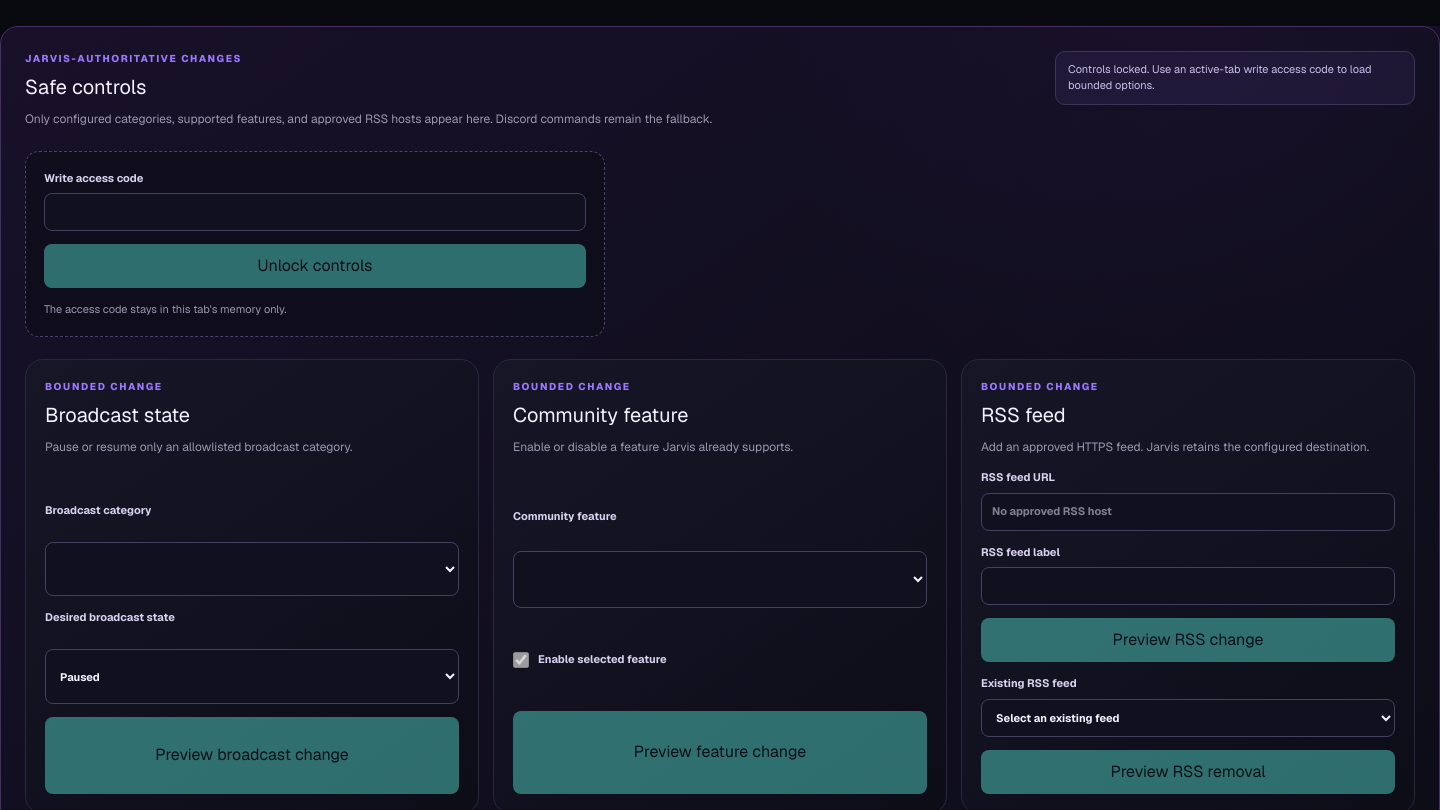
Scenario: Command Deck safe controls › renders an honest resilient outcome for API status 401
In the password field labelled "Write access code": (315, 212) [44, 193, 586, 231], type "write-only-token"
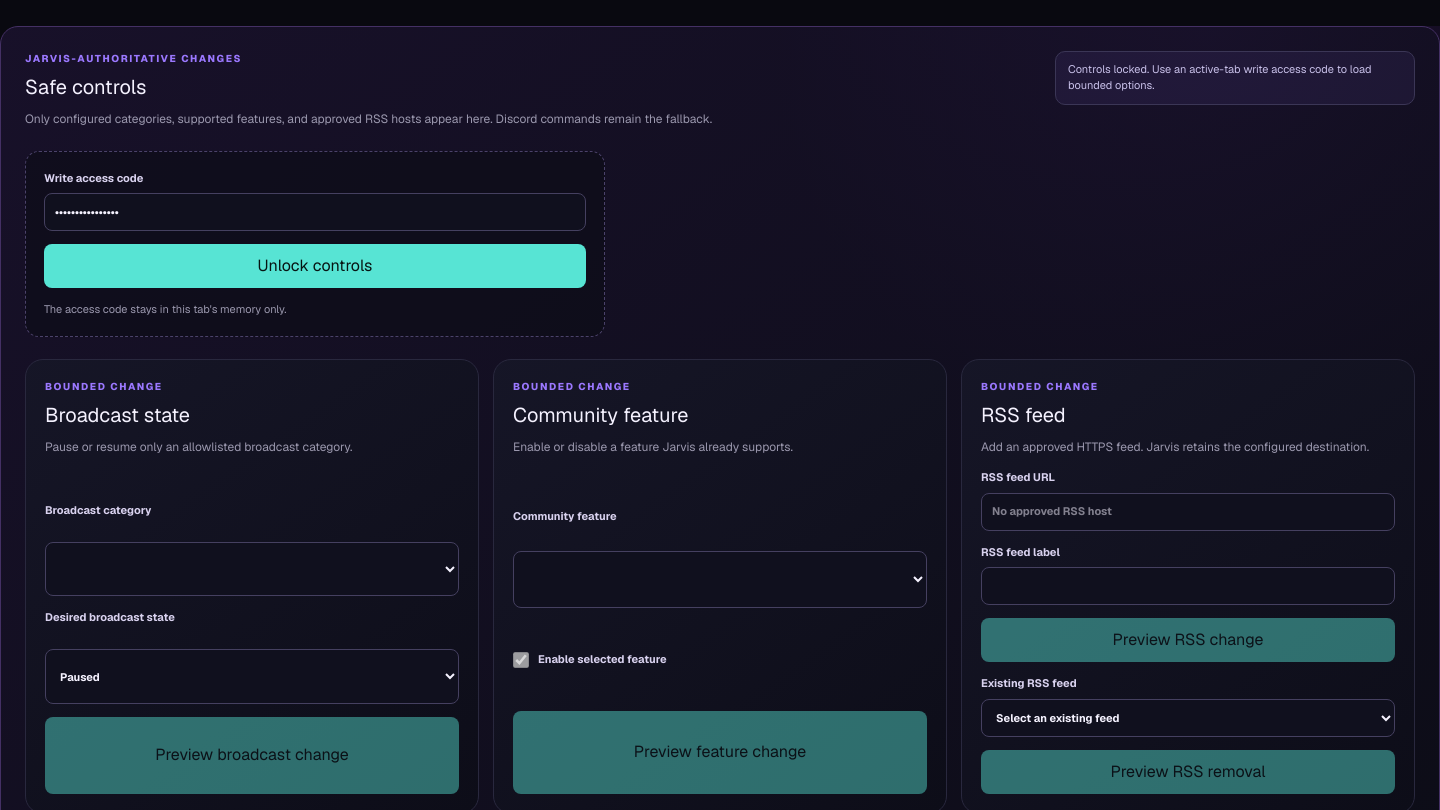
Click the button "Unlock controls": (315, 266) [44, 244, 586, 288]
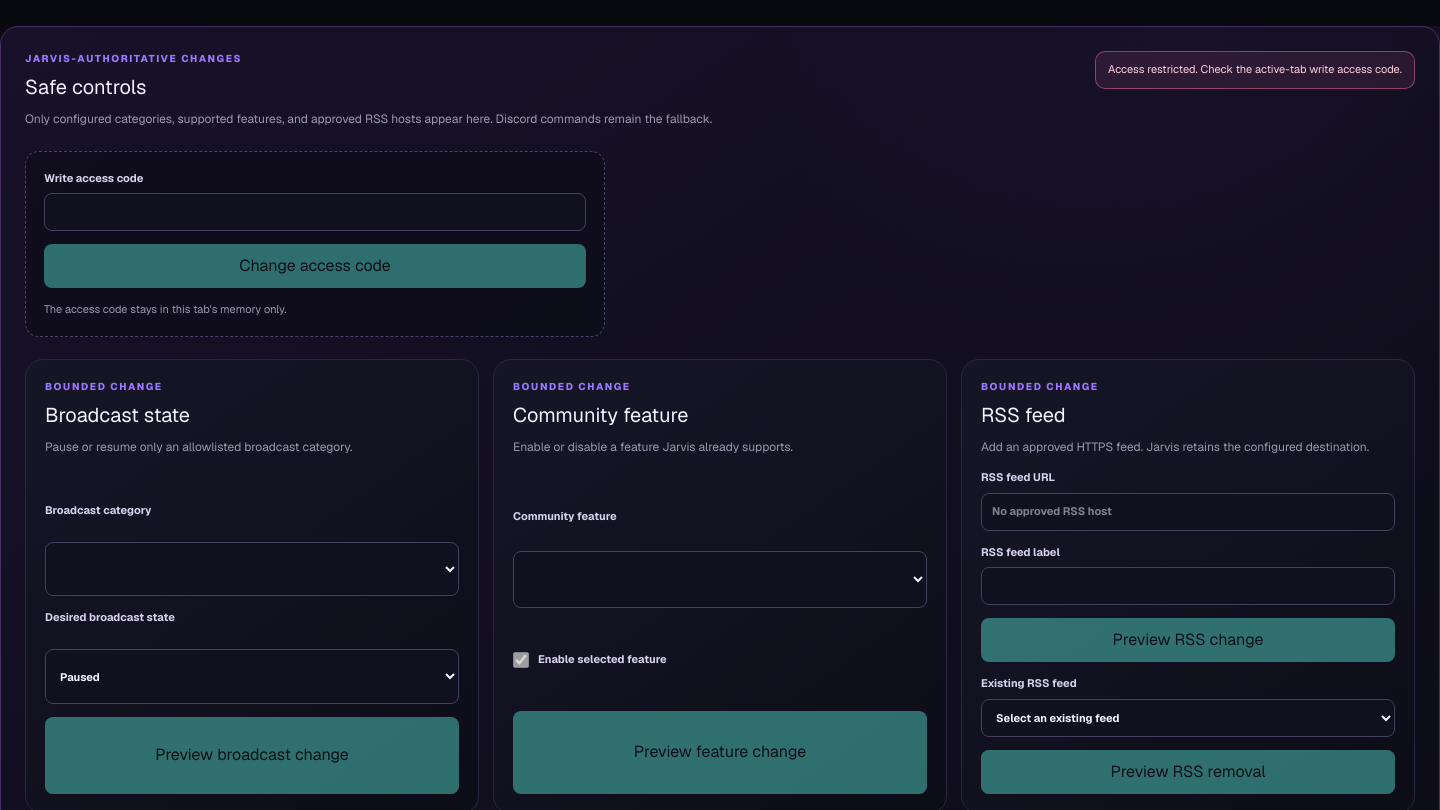
Check: the text "Access restricted. Check the active-tab write access code." is shown, box [1095, 51, 1415, 89]
